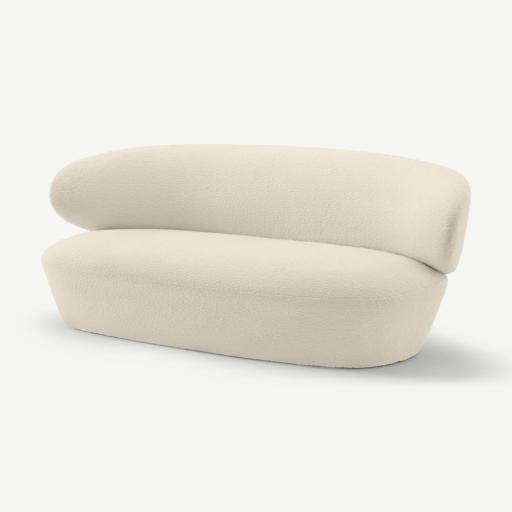back_cushion: (51, 145, 470, 273)
base: (45, 263, 446, 367)
one-seater: (43, 145, 470, 367)
seat_cushion: (43, 230, 444, 300)
